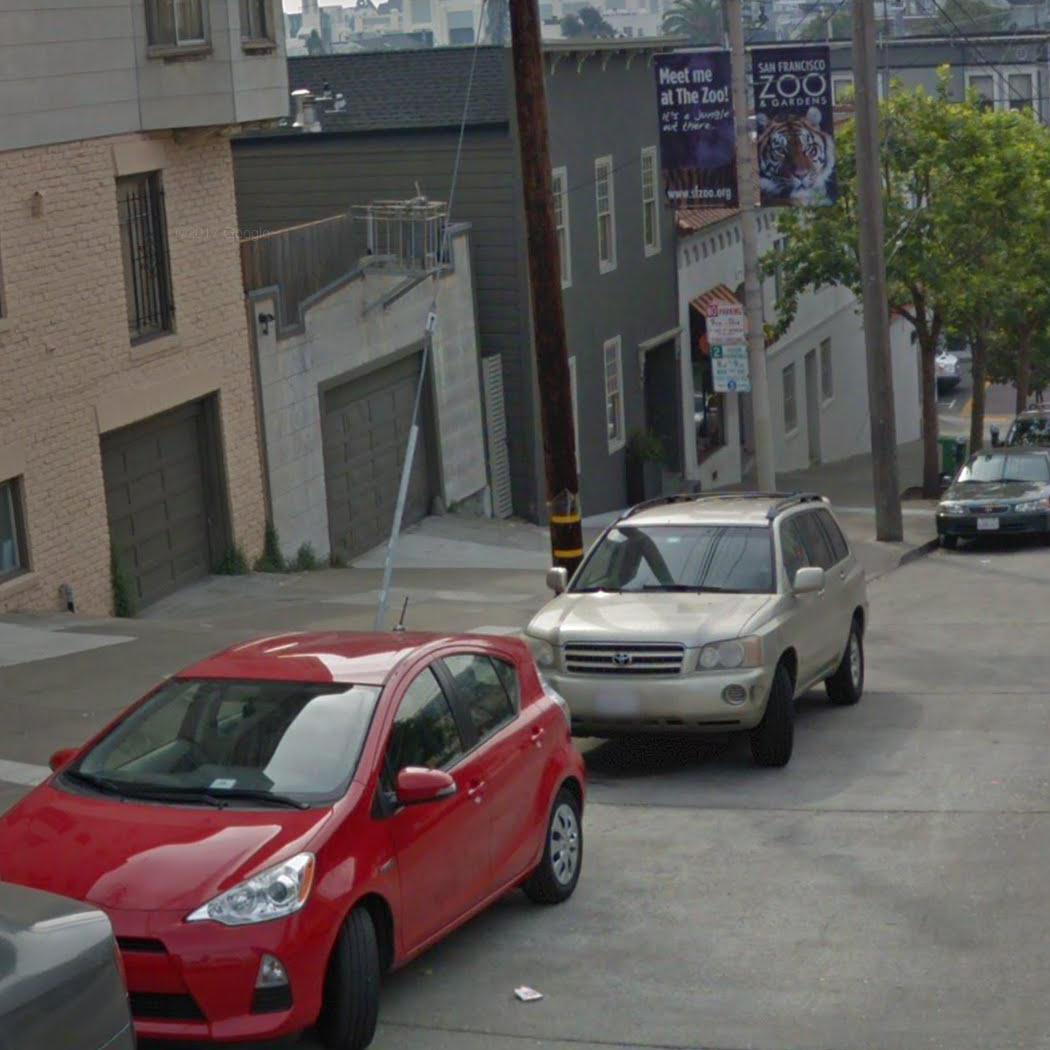2 Hour Parking: (709, 341, 754, 395)
No Parking: (703, 297, 747, 341)
